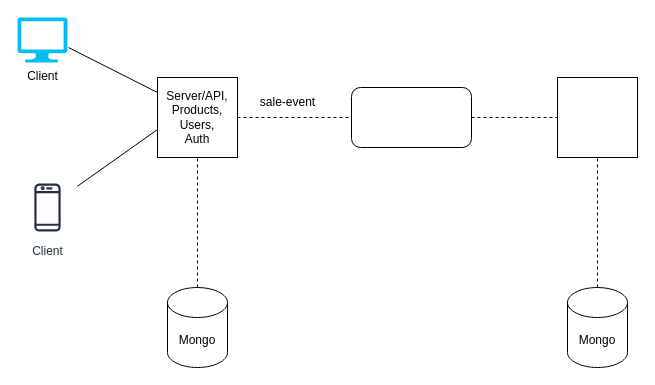
Some shapes in this 655 by 385 pixel diagram are drawn without their labels. The shapes that lost their labels are listed below. From the top down, each one's centre as x and y in pixels, then its label:
At [411,117]: "Broker(RabbitMQ)".
At [597,117]: "Jobs(Sales, Commissions, Email)".
